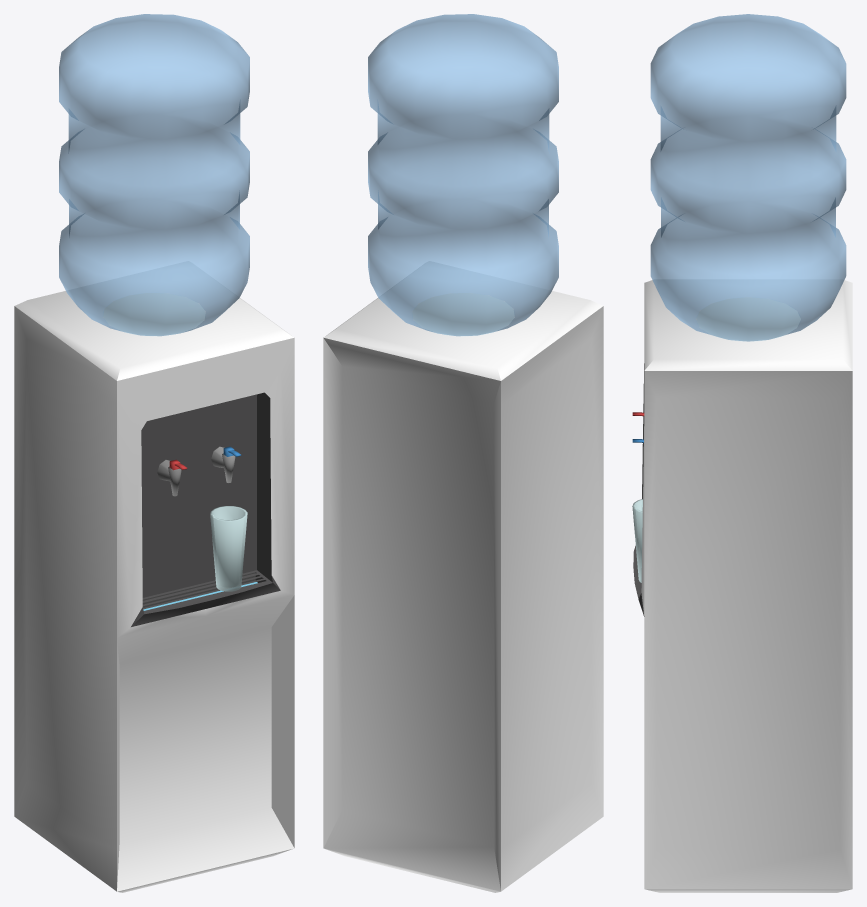
File: water_dispenser.glb
3 views of the same model, side by side, from view 1: azimuth 30°, elevation 25°; view 2: azimuth 150°, elevation 25°; view 3: azimuth 270°, elevation 25° (orthographic).
Visible parts, largest first — view 1: Body_6, Water_5, Cup_2; view 2: Body_6, Water_5; view 3: Body_6, Water_5, Cup_2.
Part boxes in pixels (box(x1,y1,x2,y2)): Body_6: box(14, 261, 294, 892); Water_5: box(59, 14, 249, 336); Cup_2: box(210, 506, 247, 591); Body_6: box(323, 261, 603, 892); Water_5: box(368, 14, 558, 336); Body_6: box(633, 279, 852, 892); Water_5: box(650, 14, 846, 341); Cup_2: box(632, 499, 642, 582).
Bounding box in the file's own units: 1.26 × 5.38 × 1.33.
7 materials, 3 textured.
